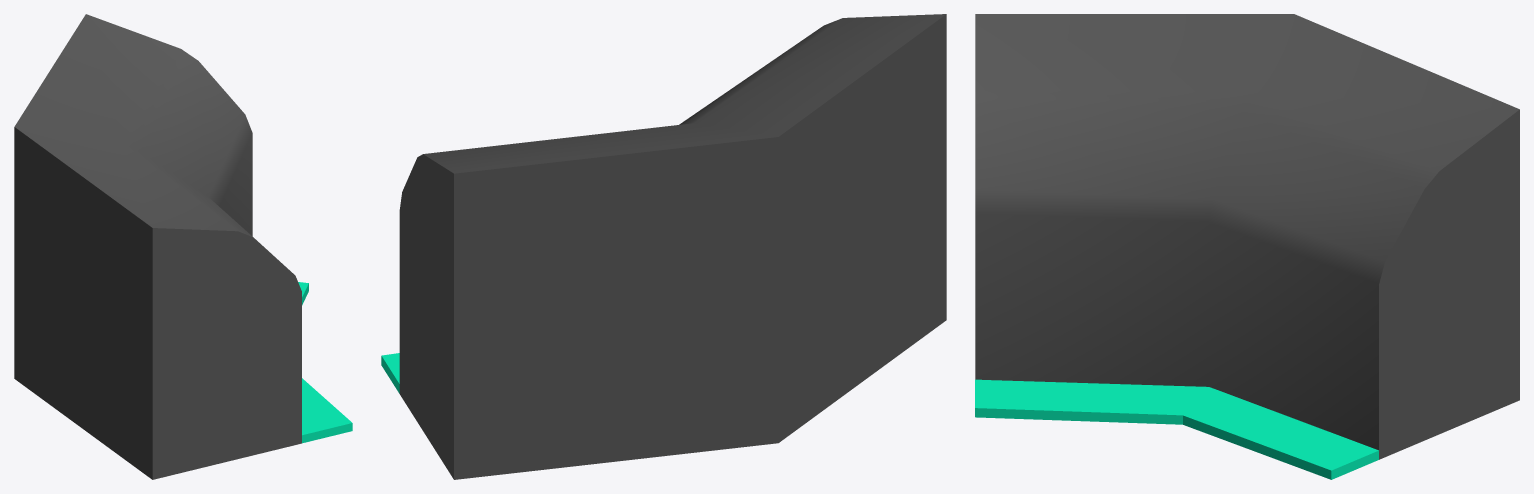
The model's file is CorridorWallInPillarDown_02.fbx.
3 renders of one model, left to right at view 1: azimuth 30°, elevation 25°; view 2: azimuth 150°, elevation 25°; view 3: azimuth 270°, elevation 25°, orthographic. The views are drawn at different scales.
Visible parts, largest first — view 1: Box125, CorridorWallInPillarDown_02; view 2: Box125; view 3: Box125, CorridorWallInPillarDown_02.
Part boxes in pixels (x1,y1,x2,y2): Box125: [14, 14, 301, 479]; CorridorWallInPillarDown_02: [298, 282, 352, 443]; Box125: [399, 14, 946, 479]; Box125: [975, 14, 1519, 459]; CorridorWallInPillarDown_02: [975, 379, 1378, 479].
Size of the model in its own units: 51.09 by 67.22 by 39.61.
